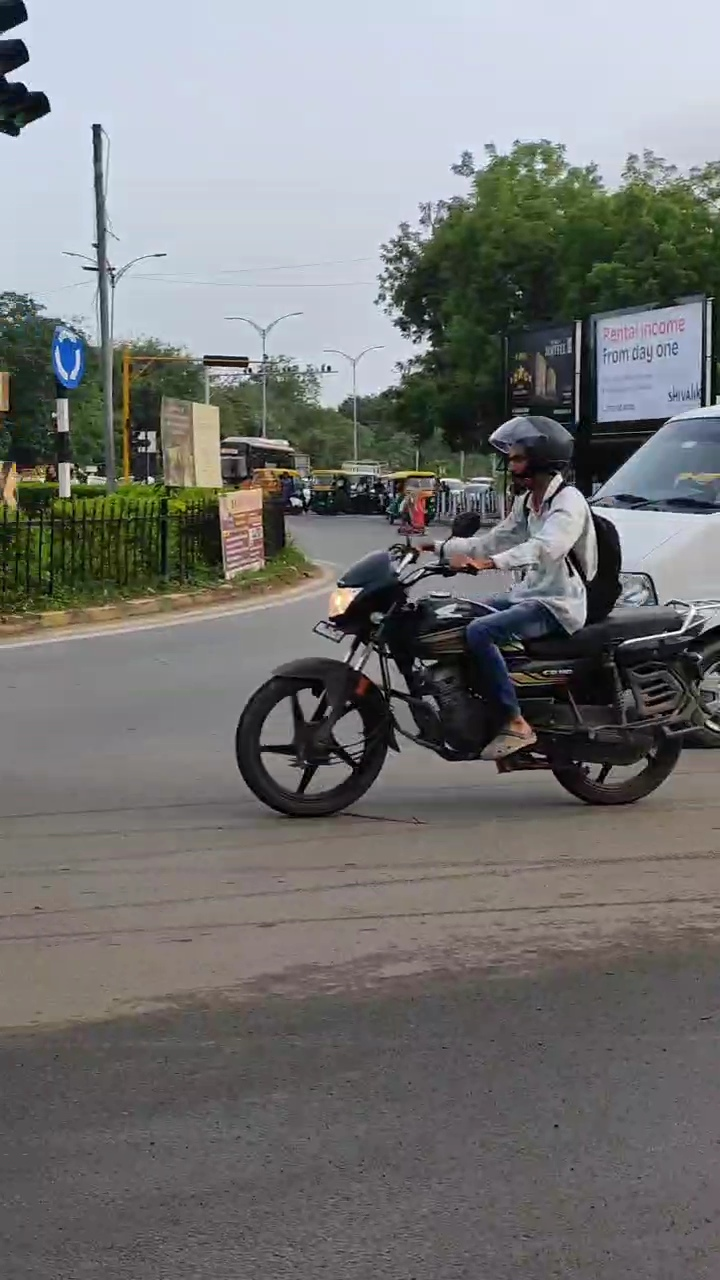BikeWithRider: (219, 397, 718, 829)
Helmet: (480, 406, 583, 497)
